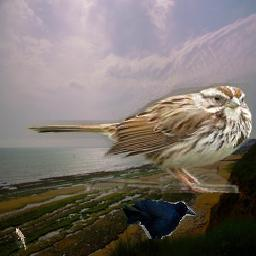Crow: (124, 199, 197, 240)
Cuckoo: (14, 228, 26, 251)
Sparrow: (26, 83, 252, 193)
